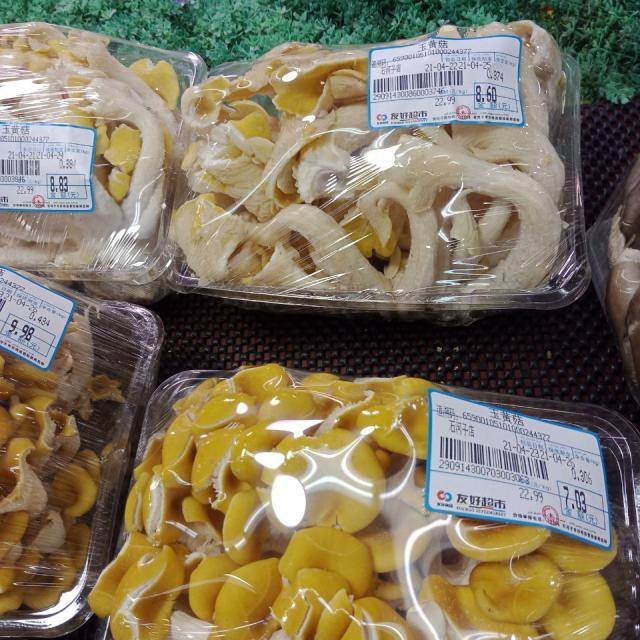Pleurotus citrinopileatus: (99, 367, 617, 640), (186, 52, 575, 301), (0, 41, 171, 266)
